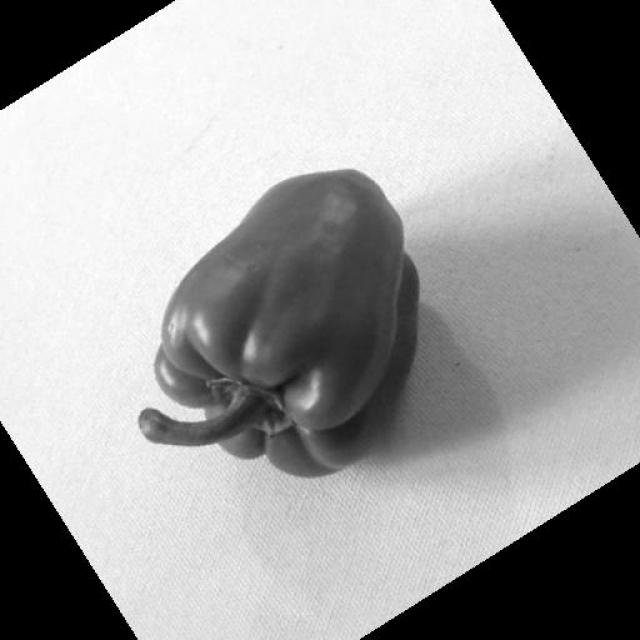Fresh_Capsicum: (138, 150, 426, 474)
